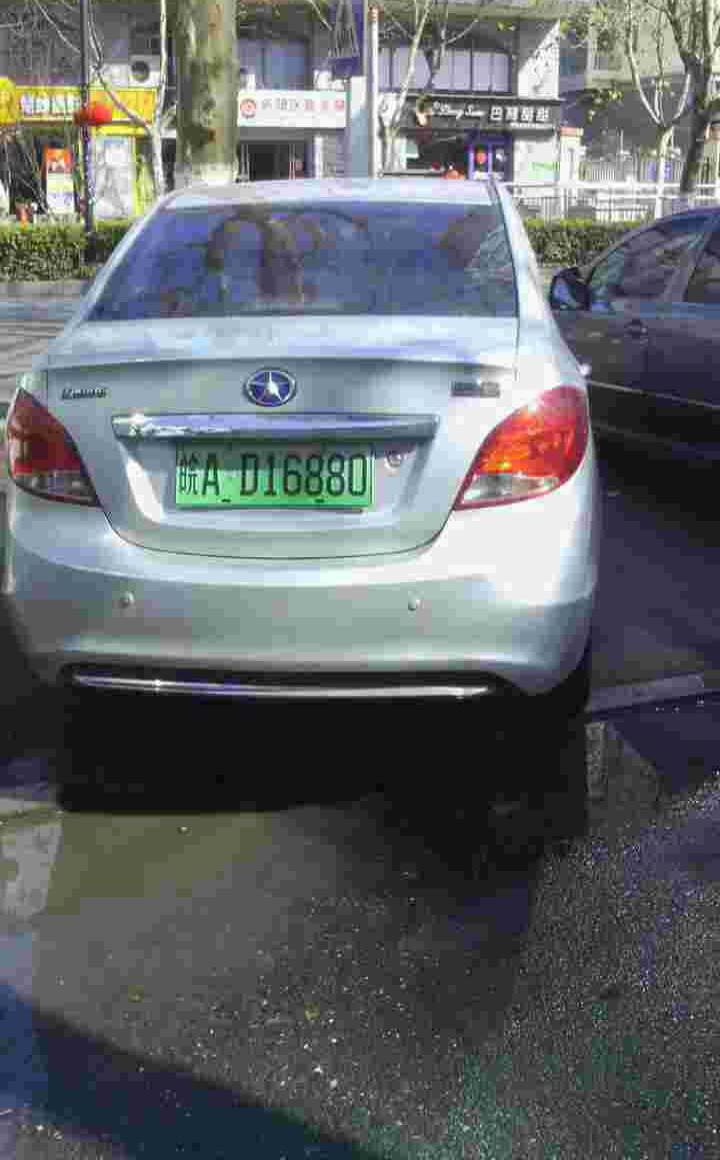car_green: (172, 437, 377, 505)
